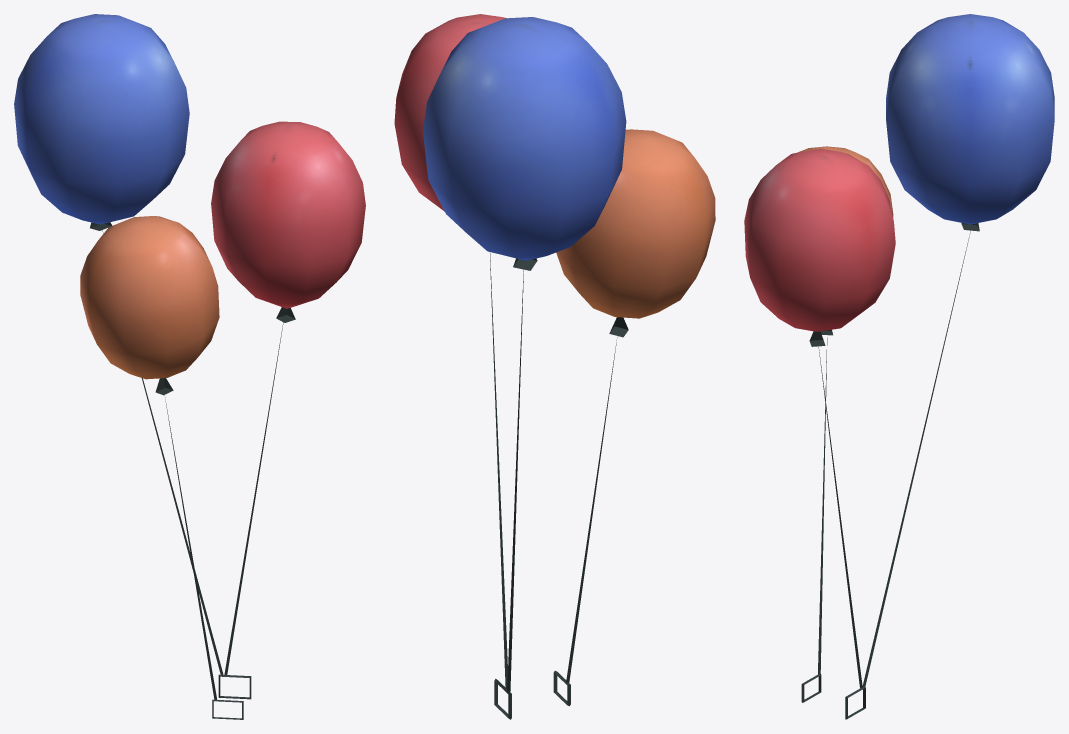
The model's file is HuBian_01_qiqiu_01.FBX.
3 renders of one model, left to right at view 1: azimuth 30°, elevation 25°; view 2: azimuth 150°, elevation 25°; view 3: azimuth 270°, elevation 25°, orthographic. The views are drawn at different scales.
Parts seen in each view (by area): view 1: Death_scene_qiqiu; view 2: Death_scene_qiqiu; view 3: Death_scene_qiqiu.
Boxes of the visible parts, x1=… form: Death_scene_qiqiu: x1=14, y1=14, x2=365, y2=719; Death_scene_qiqiu: x1=394, y1=14, x2=715, y2=719; Death_scene_qiqiu: x1=744, y1=14, x2=1054, y2=719.
Bounding box in the file's own units: 283 × 674 × 289.
1 material, 1 textured.
